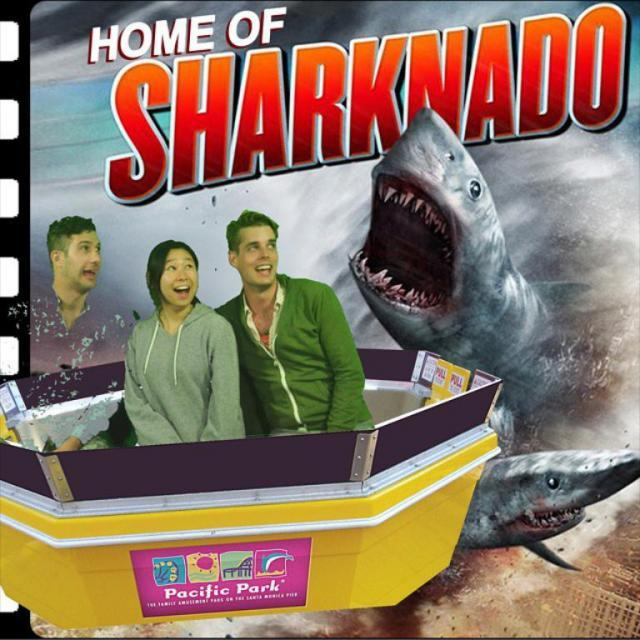Shark: (348, 102, 582, 443), (460, 446, 639, 568)
